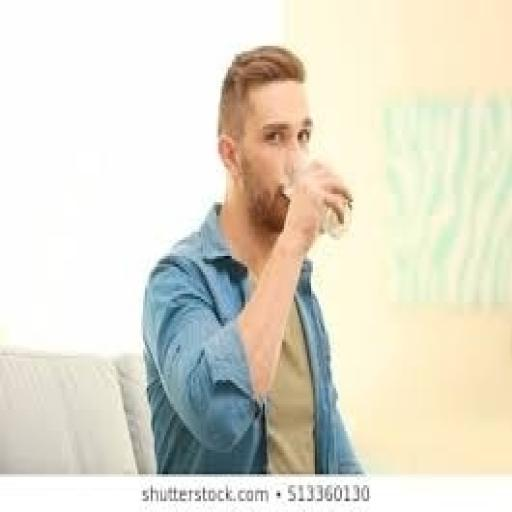drinking: (284, 154, 352, 240)
